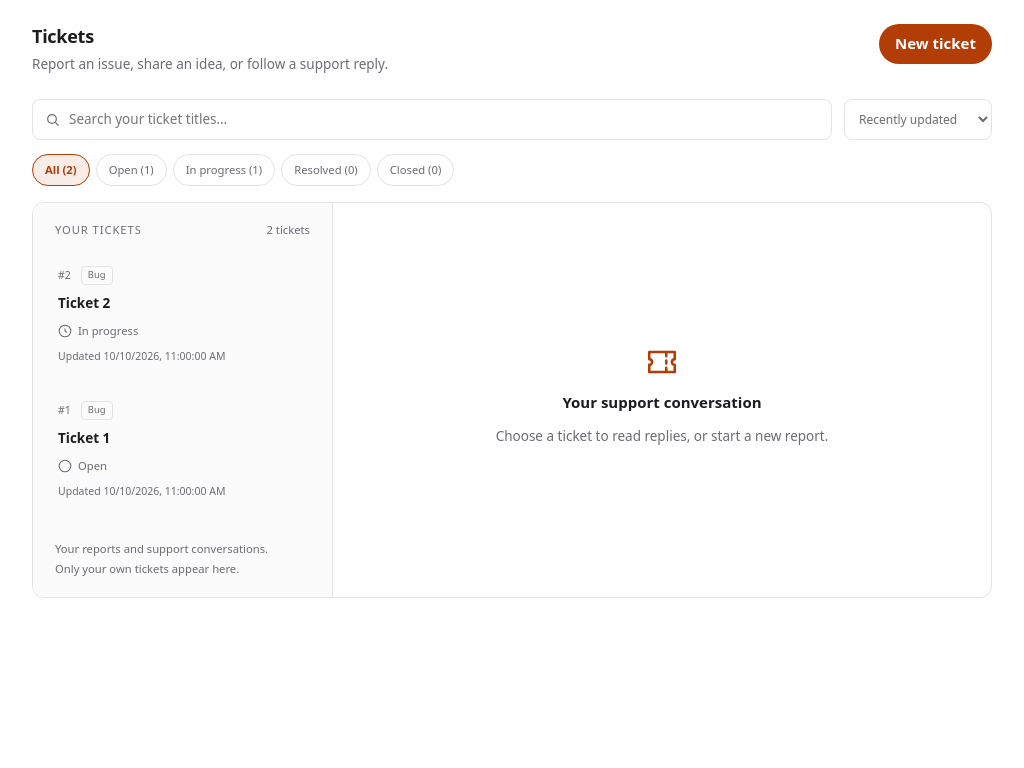
Scenario: TicketsView › filters by status
Click the button with class "segment" showing "Closed (0)".
click(416, 170)  # box [377, 154, 454, 186]
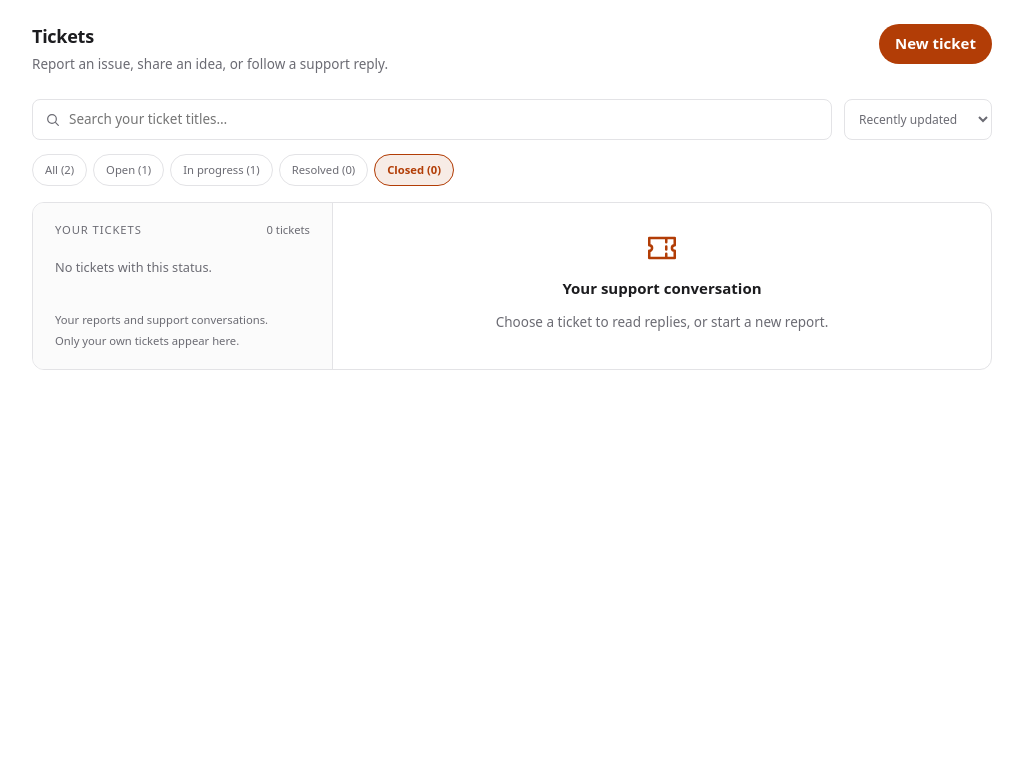
Expected: no buttons with class "ticket-row" are shown
